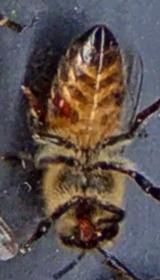varroa_mite: (46, 88, 83, 122)
